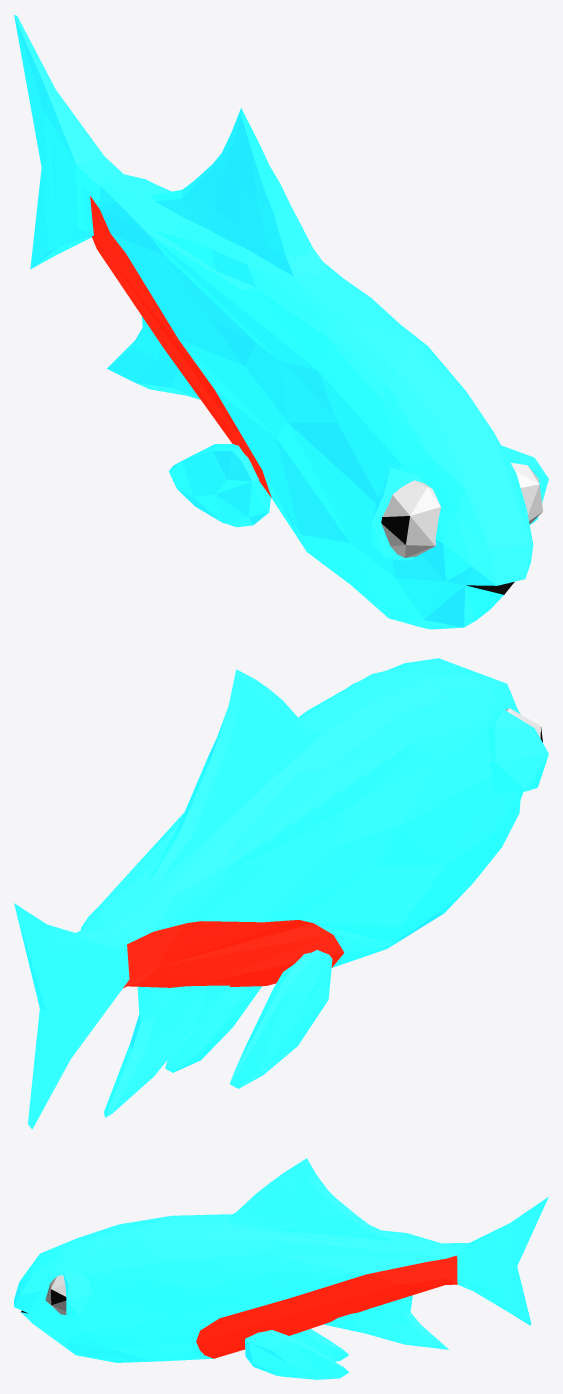
Rendered from PezCardenal.fbx.
3 renders of one model, top to bottom at view 1: azimuth 30°, elevation 25°; view 2: azimuth 150°, elevation 25°; view 3: azimuth 270°, elevation 25°, orthographic. The views are drawn at different scales.
Parts seen in each view (by area): view 1: Cuerpo_CardenalFish, Aletas_CardenalFish.001; view 2: Cuerpo_CardenalFish, Aletas_CardenalFish.001; view 3: Cuerpo_CardenalFish, Aletas_CardenalFish.001.
Part boxes in pixels (box(x1,y1,x2,y2)): Cuerpo_CardenalFish: box(90, 108, 548, 629); Aletas_CardenalFish.001: box(14, 14, 125, 269); Cuerpo_CardenalFish: box(81, 658, 548, 1117); Aletas_CardenalFish.001: box(14, 903, 129, 1129); Cuerpo_CardenalFish: box(14, 1158, 457, 1379); Aletas_CardenalFish.001: box(442, 1196, 548, 1325).
Size of the model in its own units: 104 by 224 by 507.
